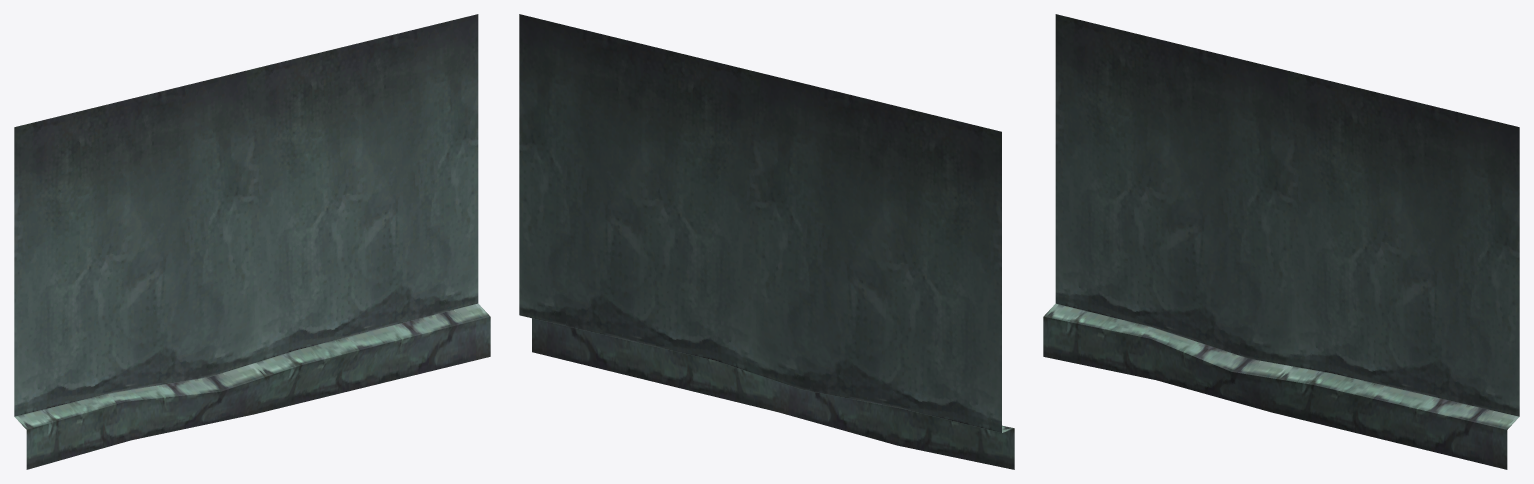
Rendered from crypt_half_straight_01.fbx.
3 renders of one model, left to right at view 1: azimuth 30°, elevation 25°; view 2: azimuth 150°, elevation 25°; view 3: azimuth 330°, elevation 25°, orthographic. The views are drawn at different scales.
Visible parts, largest first — view 1: crypt_half_straight_01-0; view 2: crypt_half_straight_01-0; view 3: crypt_half_straight_01-0.
Boxes of the visible parts, x1=… form: crypt_half_straight_01-0: x1=14, y1=14, x2=490, y2=469; crypt_half_straight_01-0: x1=519, y1=14, x2=1014, y2=469; crypt_half_straight_01-0: x1=1043, y1=14, x2=1519, y2=469.
Bounding box in the file's own units: 4 × 2.75 × 0.2281.
